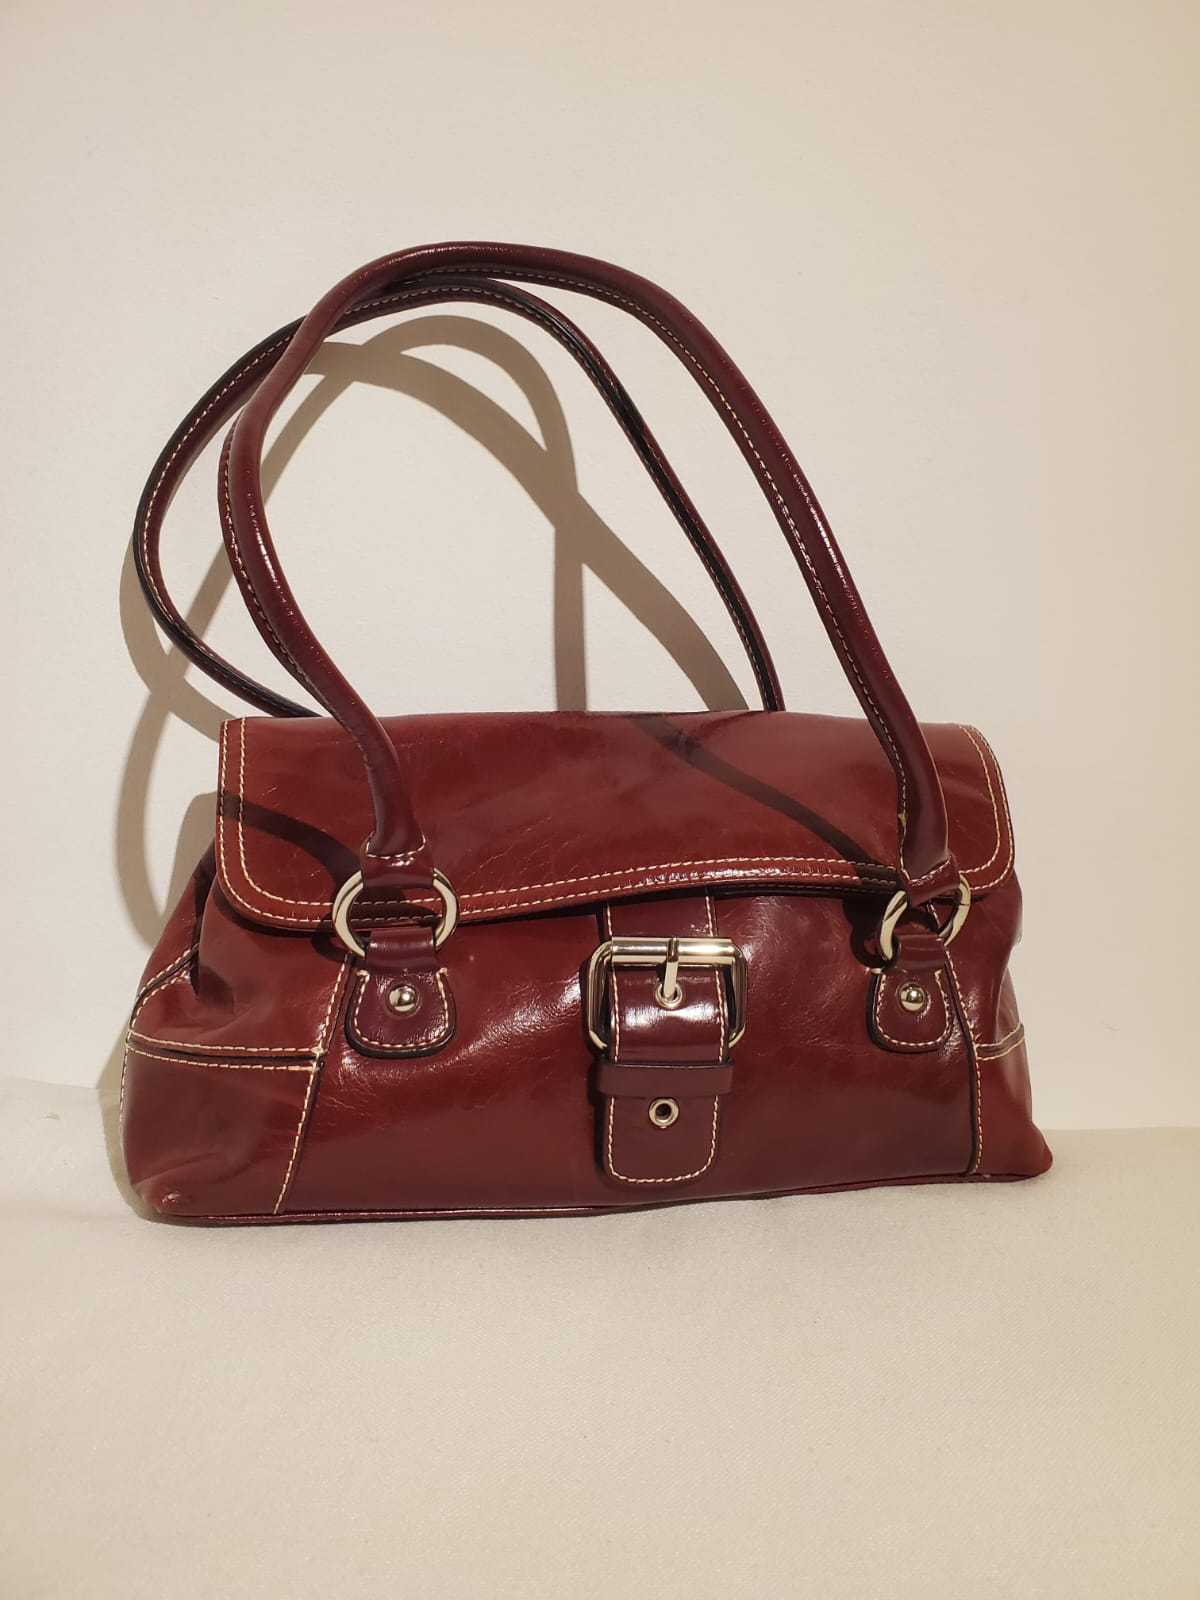cartera: (58, 207, 1134, 1257)
cuero: (142, 724, 1007, 1203)
